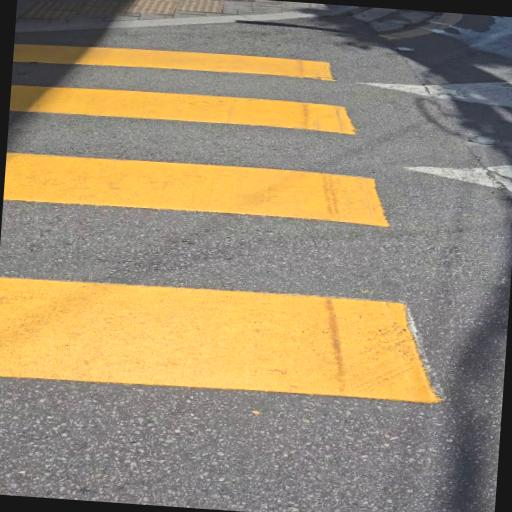yellow-crosswalk: (0, 19, 510, 444)
